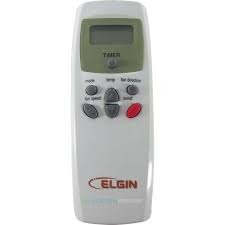remote control: (68, 0, 157, 223)
